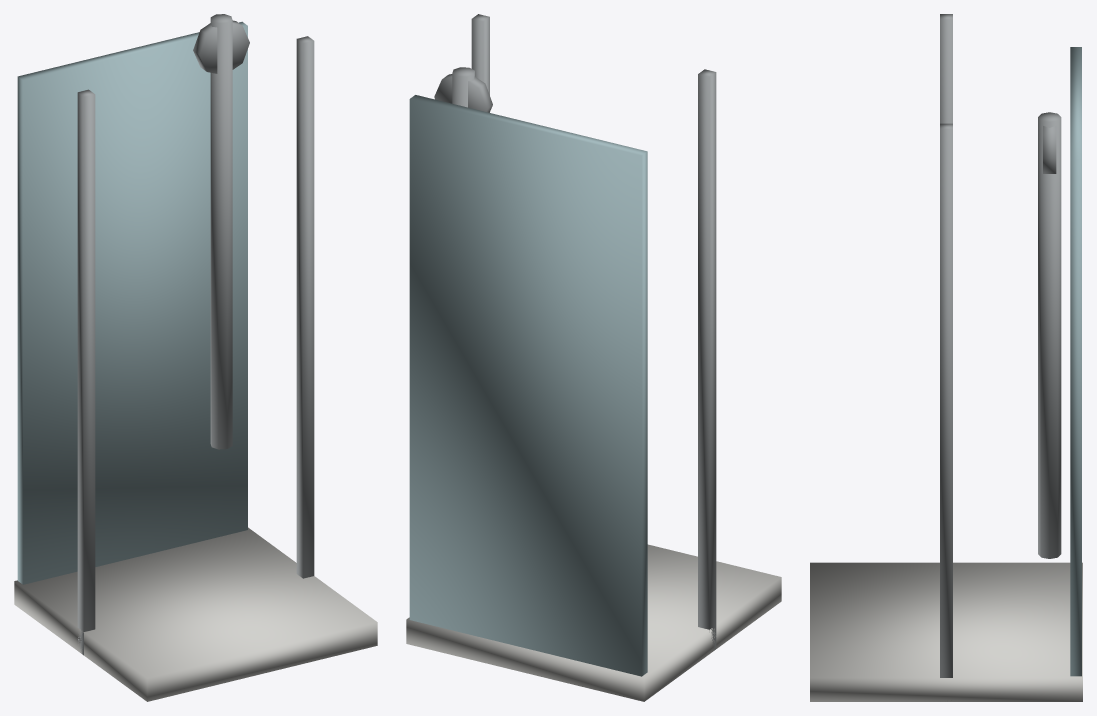
Rendered from shower_stall.glb.
3 renders of one model, left to right at view 1: azimuth 30°, elevation 25°; view 2: azimuth 150°, elevation 25°; view 3: azimuth 270°, elevation 25°, orthographic. The views are drawn at different scales.
Visible parts, largest first — view 1: world; view 2: world; view 3: world.
Part boxes in pixels (<box>): world: <box>14,14,377,701</box>; world: <box>406,14,781,701</box>; world: <box>810,14,1082,701</box>.
Size of the model in its own units: 0.82 by 1.9 by 0.82.
